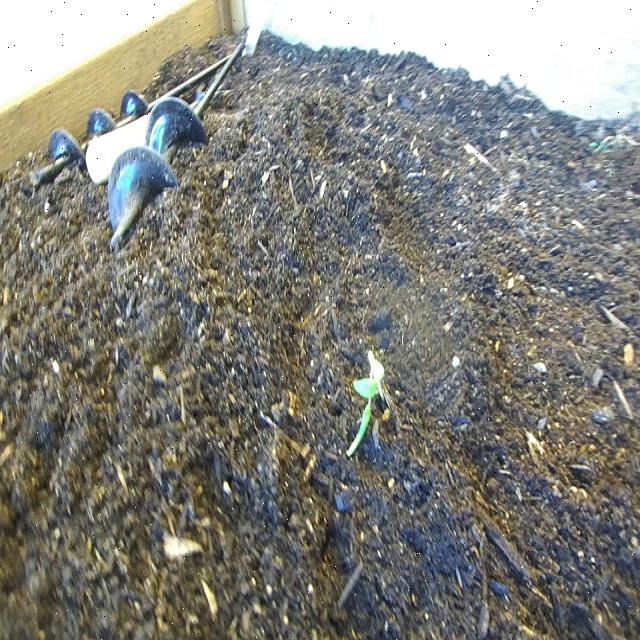Healthy: (346, 333, 395, 470)
